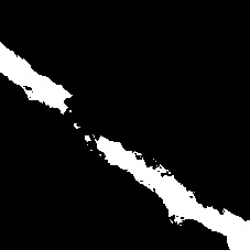crack: (1, 42, 249, 248)
